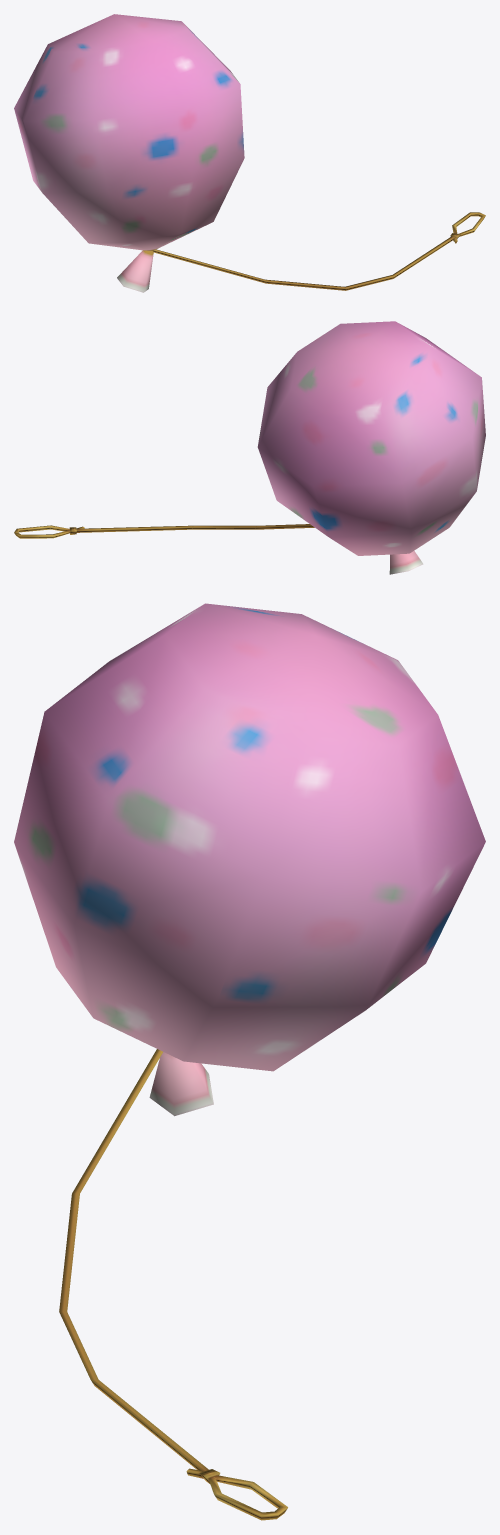
Rendered from jsf_WaterBalloon_19_b.fbx.
The picture shows the model from 3 angles, top to bottom: view 1: azimuth 30°, elevation 25°; view 2: azimuth 150°, elevation 25°; view 3: azimuth 270°, elevation 25°; orthographic projection. The views are drawn at different scales.
Parts seen in each view (by area): view 1: jsf_WaterBalloon_19_b; view 2: jsf_WaterBalloon_19_b; view 3: jsf_WaterBalloon_19_b.
Part boxes in pixels (box(x1,y1,x2,y2)): jsf_WaterBalloon_19_b: box(14, 14, 485, 292); jsf_WaterBalloon_19_b: box(14, 321, 485, 574); jsf_WaterBalloon_19_b: box(14, 603, 485, 1520).
Bounding box in the file's own units: 24.35 × 14.34 × 11.11.
